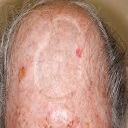Carcinoma: (12, 107, 85, 128), (12, 63, 29, 85), (73, 48, 88, 61)
